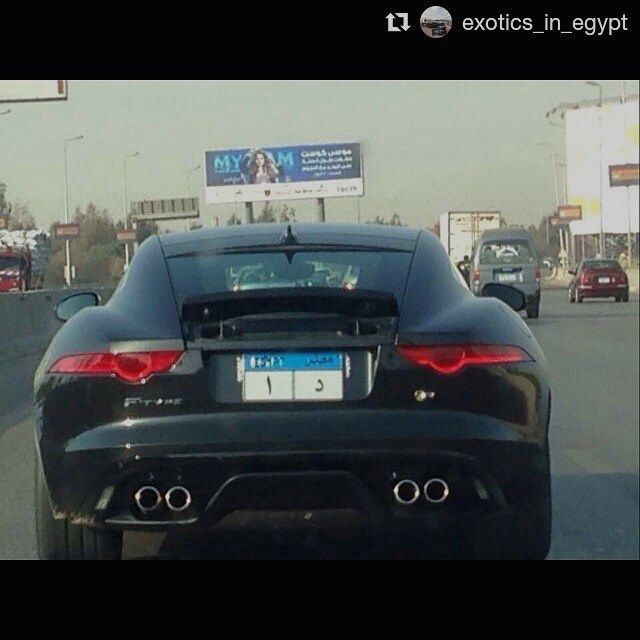License Plate: (238, 347, 349, 405)
